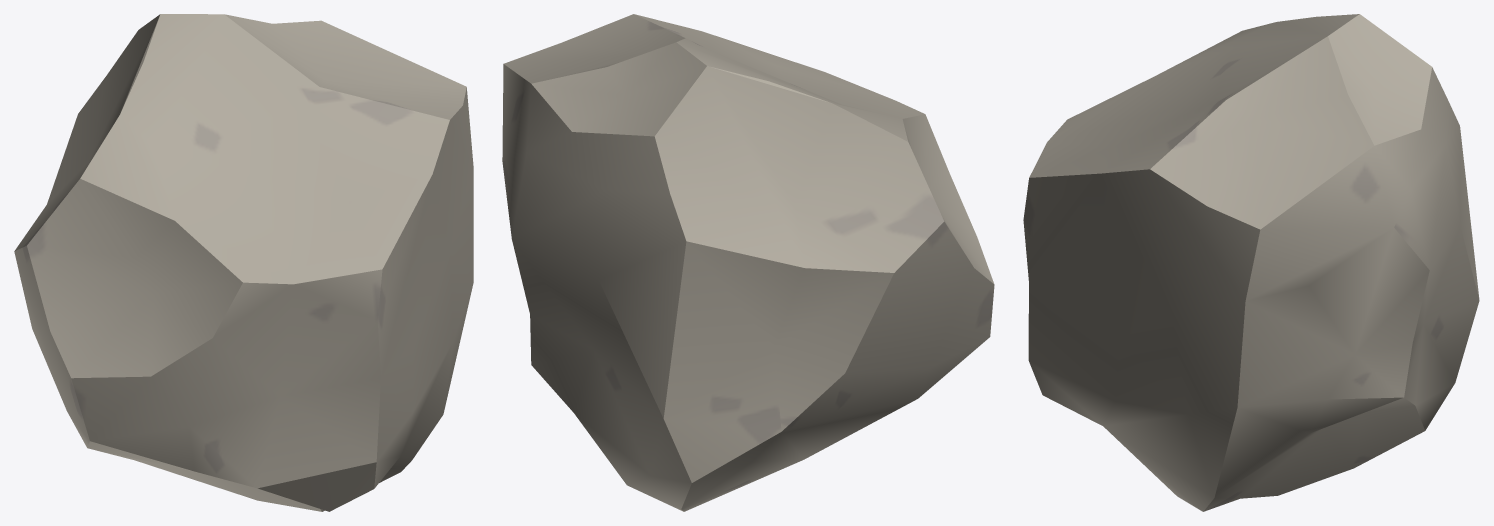
File: Rock 1.fbx
3 views of the same model, side by side, from view 1: azimuth 30°, elevation 25°; view 2: azimuth 150°, elevation 25°; view 3: azimuth 270°, elevation 25° (orthographic). The views are drawn at different scales.
Parts seen in each view (by area): view 1: Rock 1; view 2: Rock 1; view 3: Rock 1.
Boxes of the visible parts, x1,y1,x2,y2 form: Rock 1: [14, 14, 473, 511]; Rock 1: [502, 14, 994, 511]; Rock 1: [1023, 14, 1479, 511].
Size of the model in its own units: 243 by 246 by 223.
